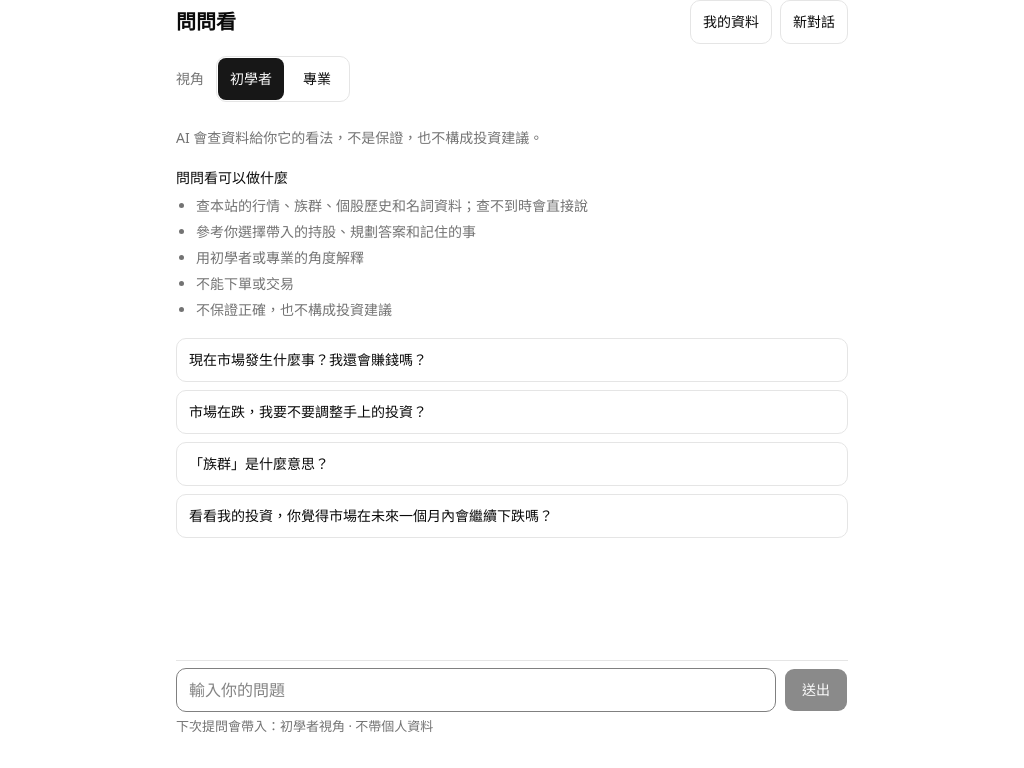
AskChat: first-use disclosure › also guards a tapped suggestion
The image size is (1024, 768).
What coordinates should you click on to do the following:
click the button "現在市場發生什麼事？我還會賺錢嗎？"
I would click on:
 (308, 360)
Its box is [176,338,848,382].
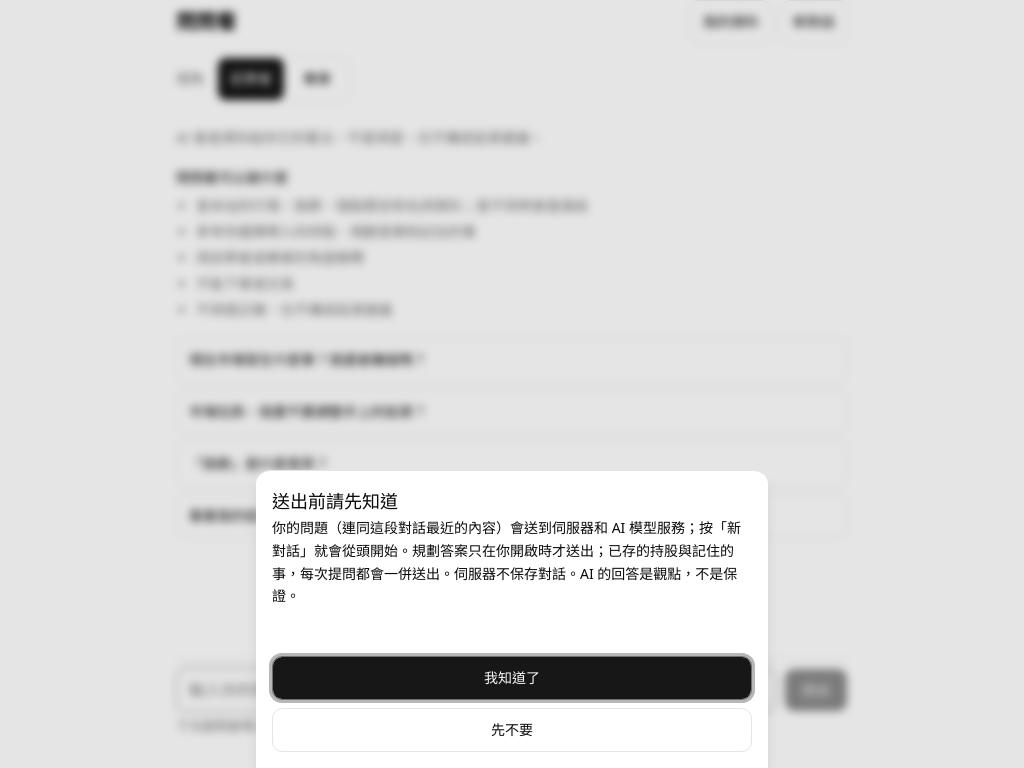
Now the dialog is shown, box [256,470,768,767]
